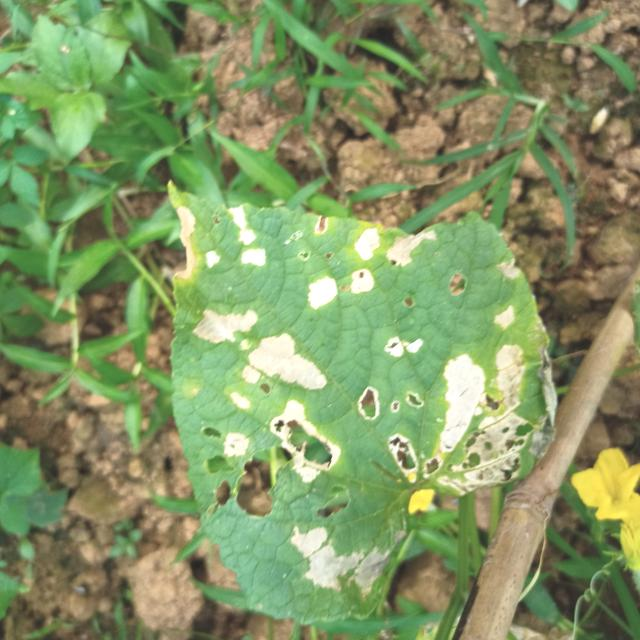disease_cucumber: (170, 220, 465, 408), (350, 299, 560, 497), (212, 383, 388, 600)
